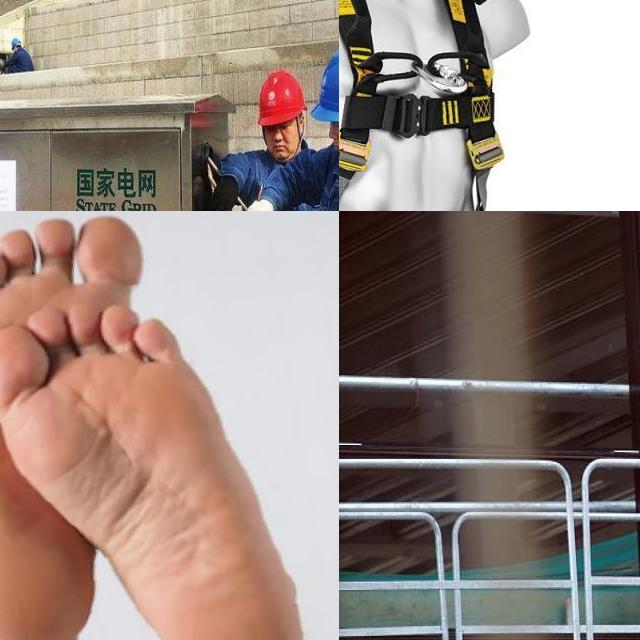Barefoots: (0, 302, 312, 640), (0, 211, 159, 640)
Harness: (339, 0, 504, 211)
No_Ear-Protection: (298, 109, 305, 133)
person: (277, 115, 298, 135)
